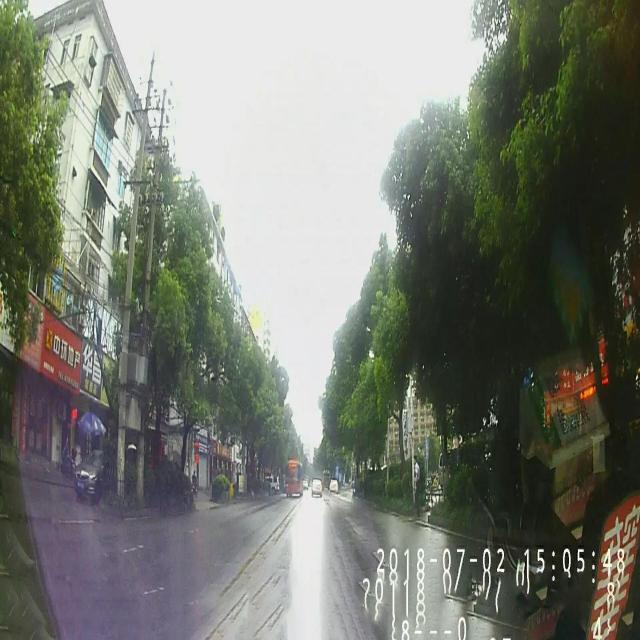car: (312, 475, 324, 499), (329, 479, 337, 492)
